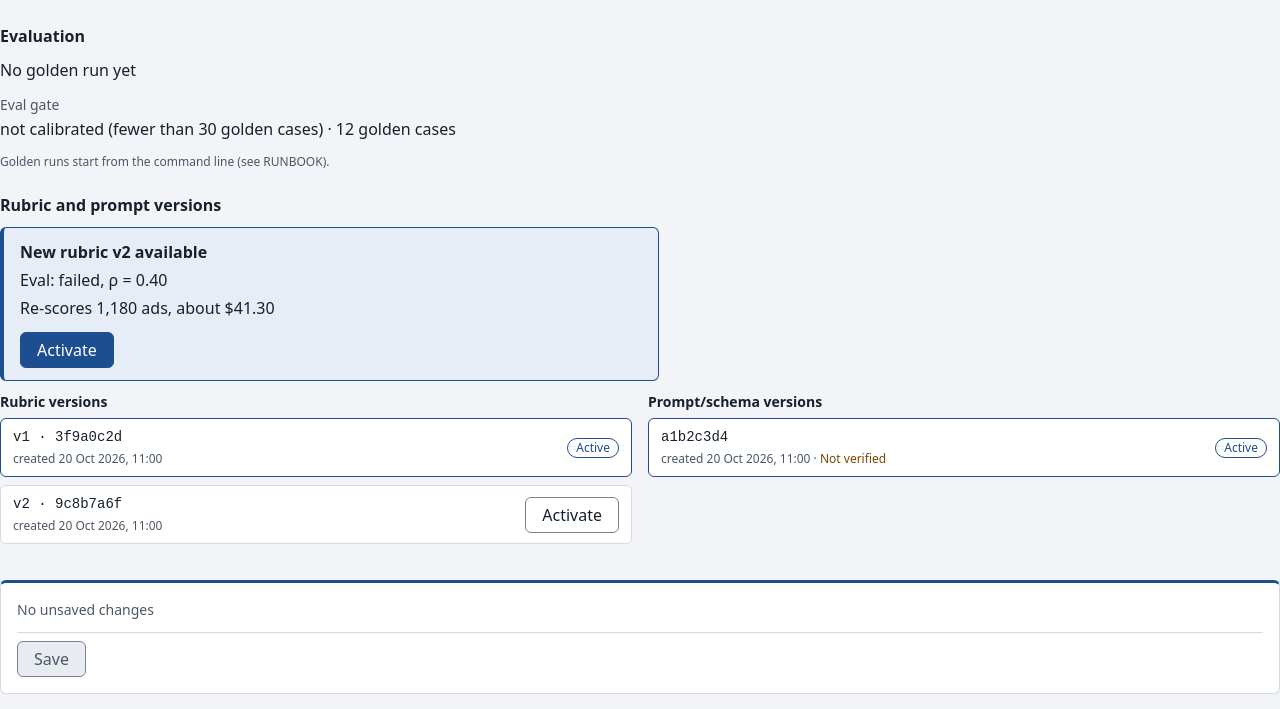
Test: VersionsPanel › a failed gate needs the override tick
Later steps or results of the test are not shown.
(page scrolled)
Click the button with aria-label "Activate rubric v2" at (67, 350), box [20,332,114,368]
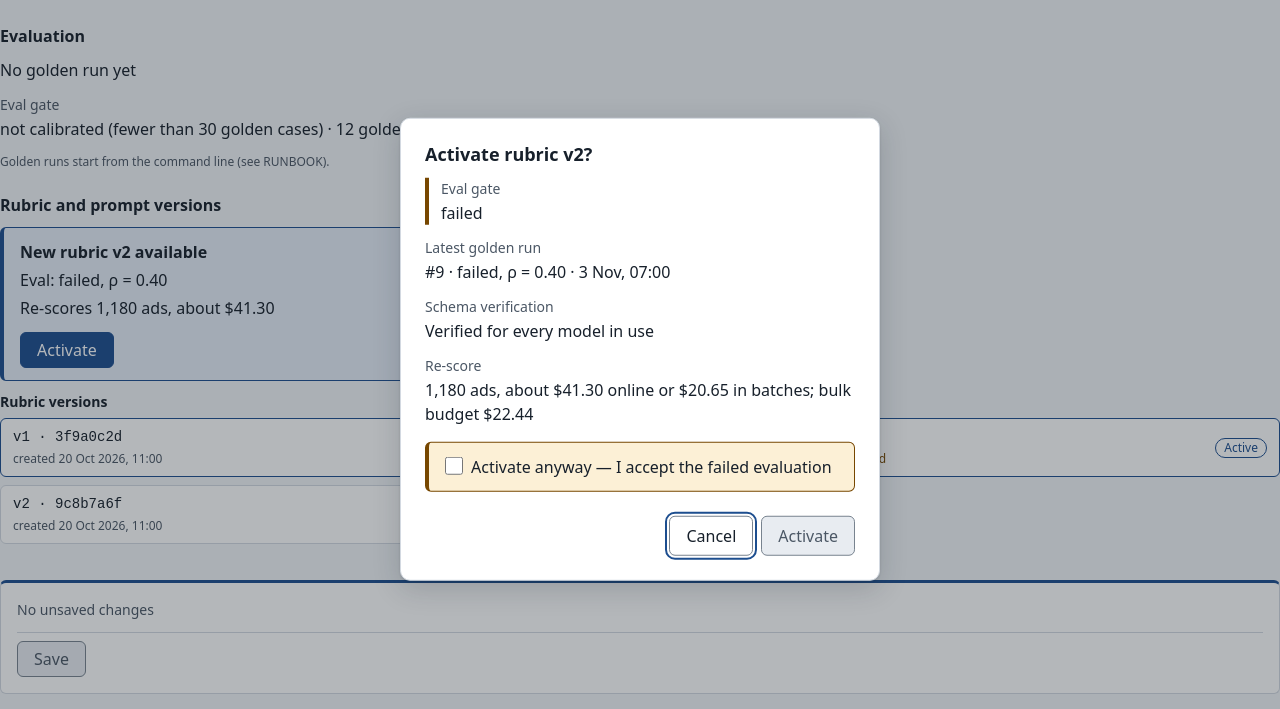
Check: the dialog "Activate rubric v2?" shows "failed", box [441,201,483,223]
Check: the button "Activate" is disabled, box [761,515,855,555]
Click the checkbox labelled "Activate anyway — I accept the failed evaluation" at (454, 465), box [445,456,463,474]
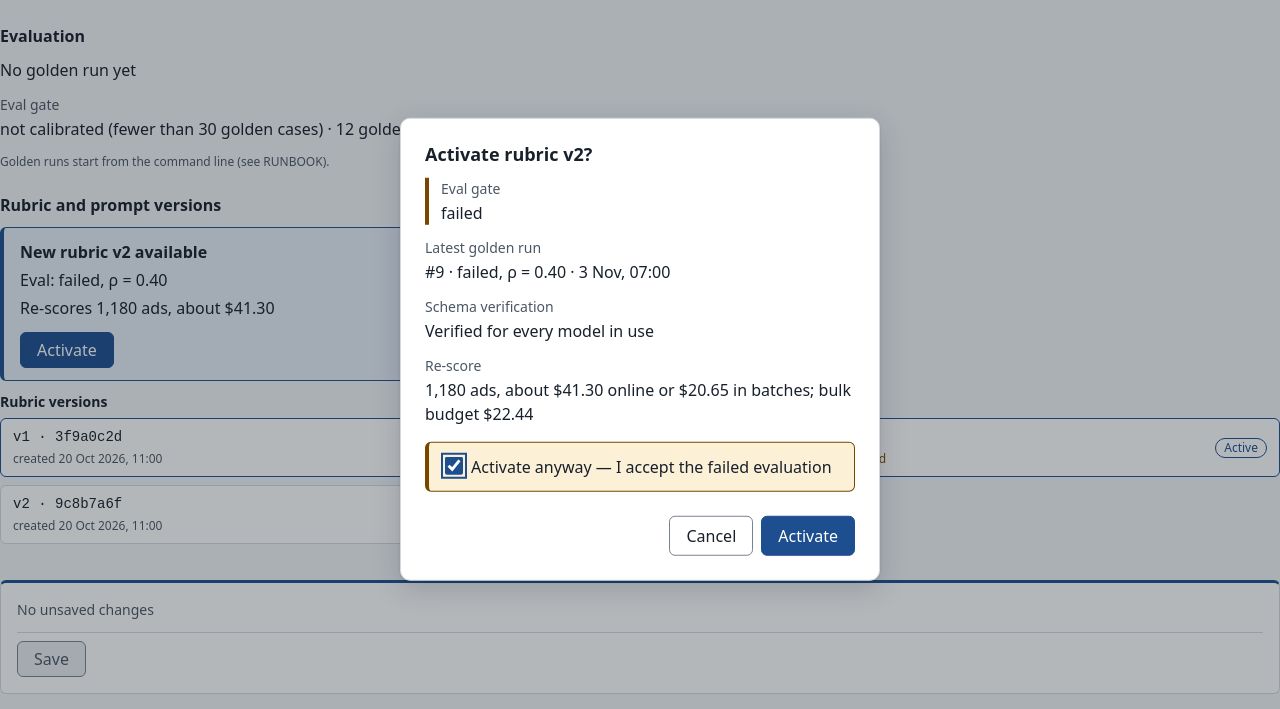
Check: the button "Activate" is enabled, box [761,515,855,555]
